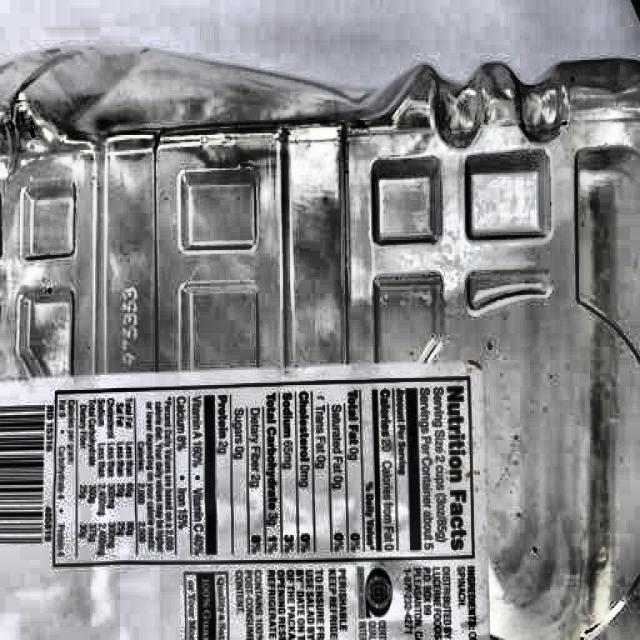plastic: (4, 46, 640, 640)
